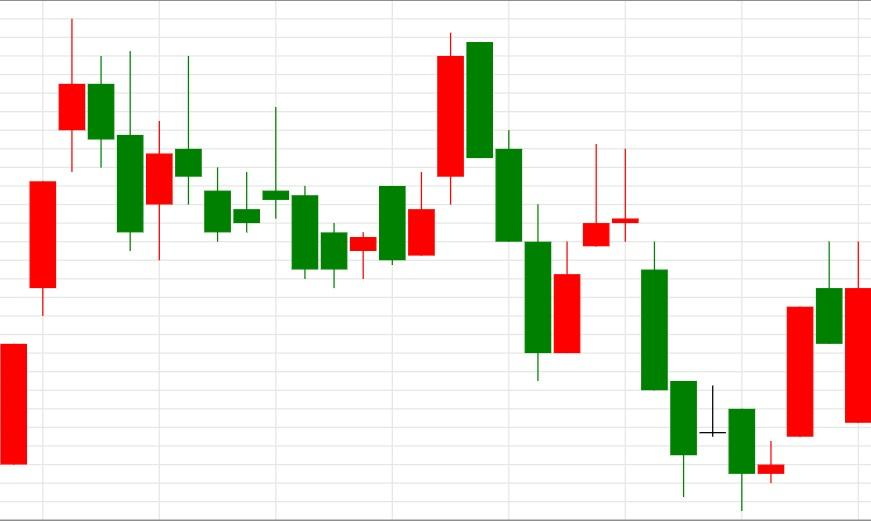shooting_star_fall: (523, 143, 611, 380)
three_black_crows_fall: (291, 33, 552, 381)
